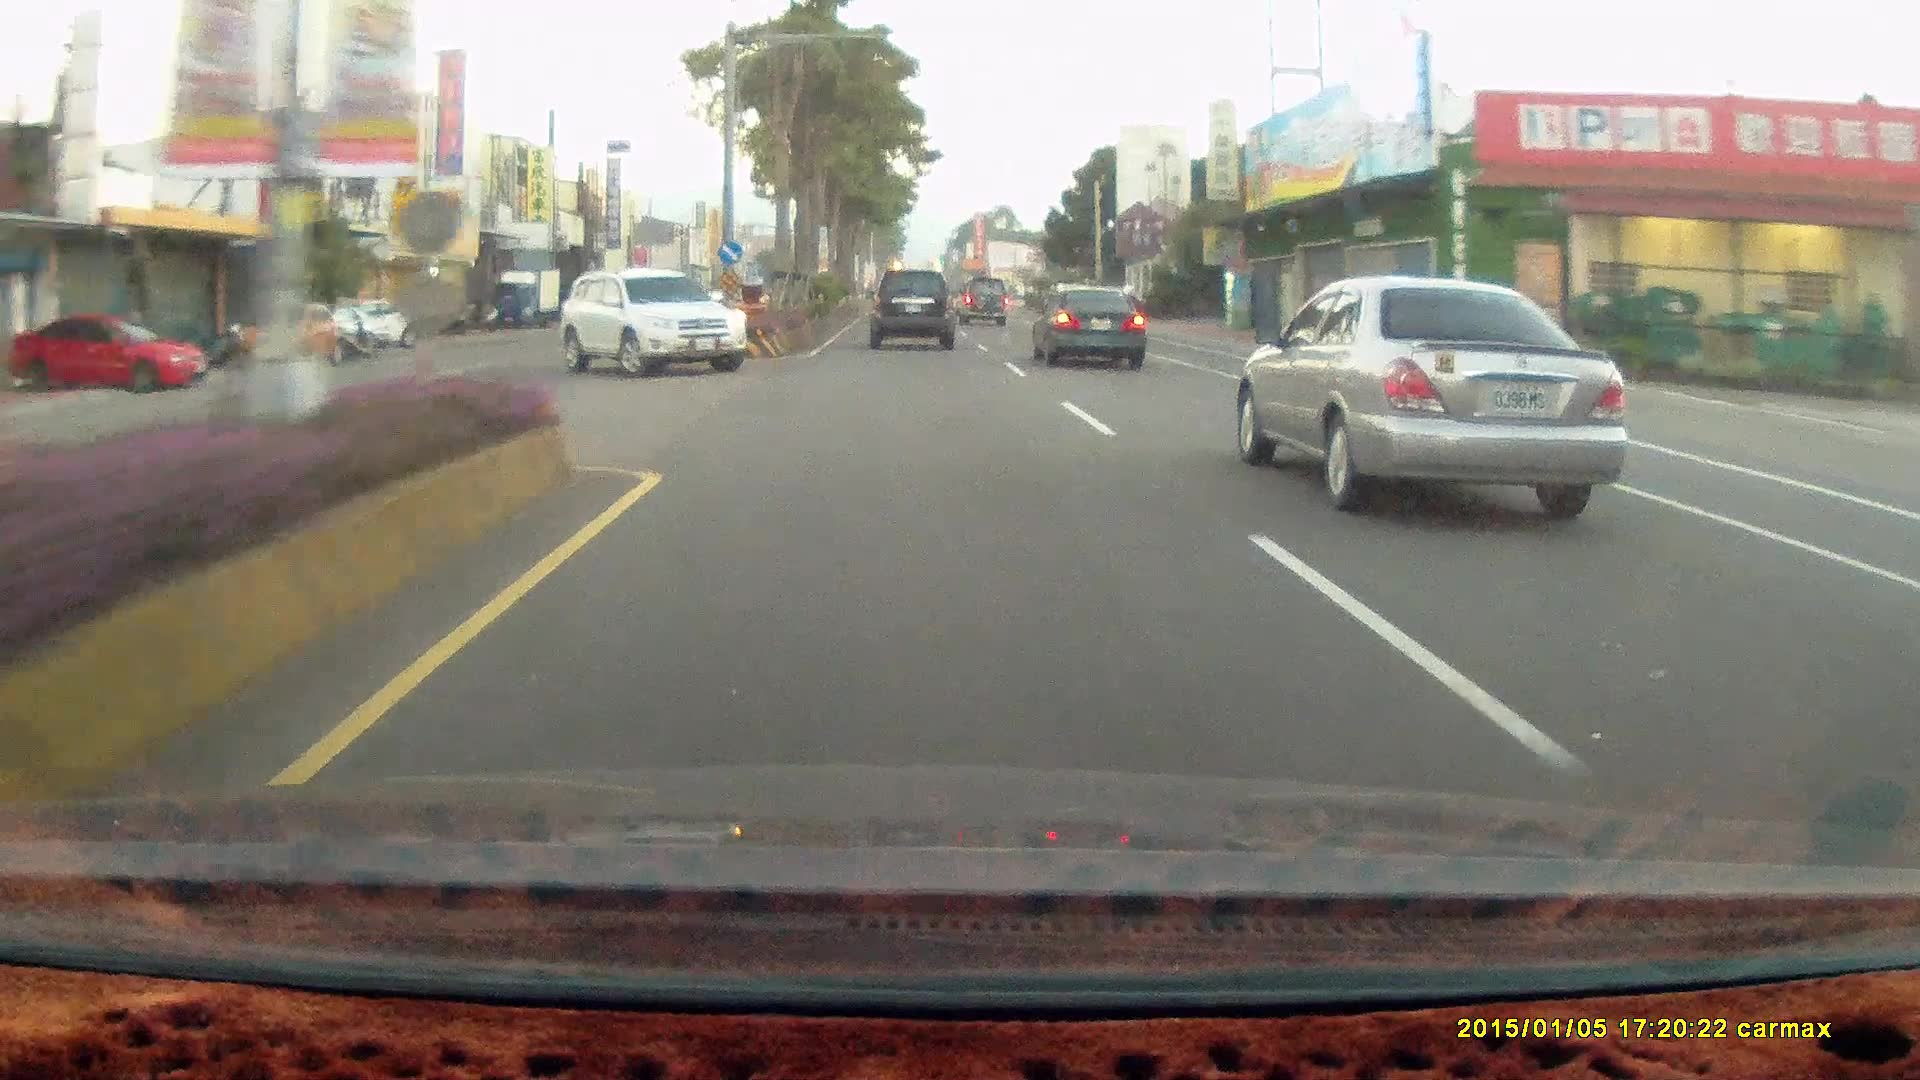vehicle: (1226, 276, 1627, 527), (553, 272, 750, 378), (553, 269, 748, 377), (4, 316, 202, 402), (3, 315, 200, 400), (1029, 285, 1149, 373), (1030, 284, 1146, 369), (865, 266, 961, 357), (231, 302, 345, 375), (866, 269, 952, 347), (316, 297, 426, 348), (956, 280, 1011, 330), (957, 278, 1010, 324)
